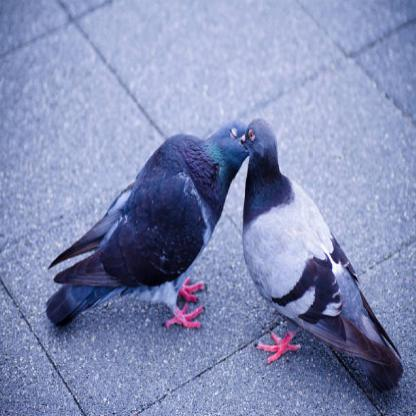Rock Pigeon: (244, 116, 408, 392), (41, 120, 242, 333)
